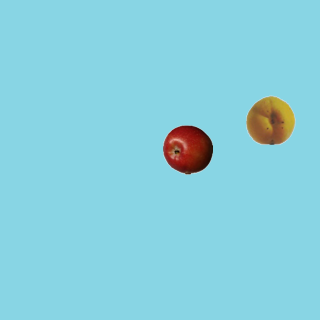Apple Braeburn: (162, 124, 212, 174)
Peach 2: (245, 94, 295, 144)
